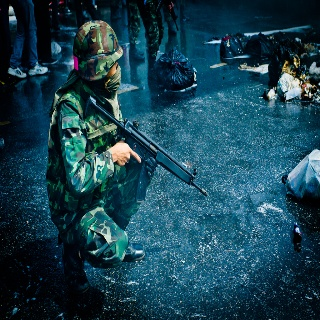rifle: (83, 94, 211, 199)
